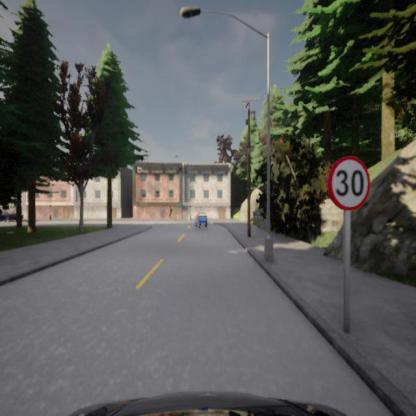traffic_sign_30: (326, 154, 372, 212)
